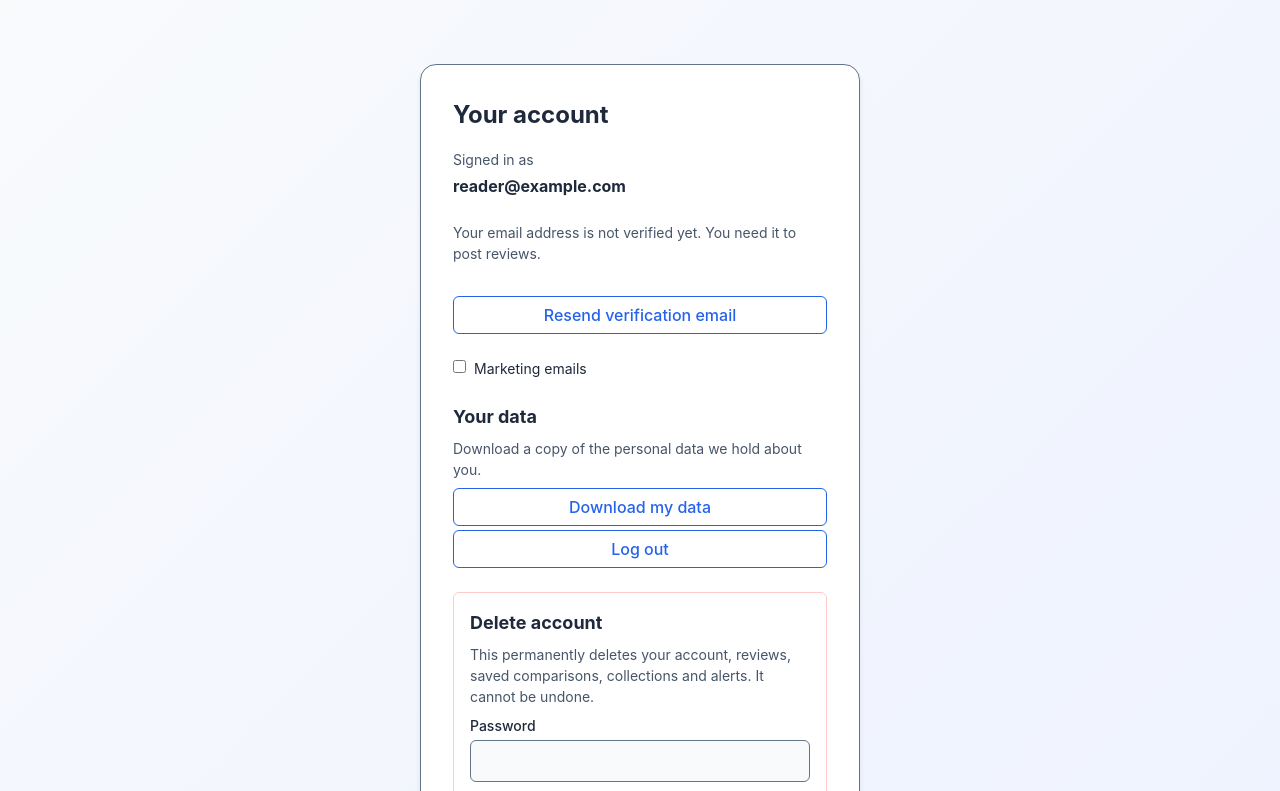
Scenario: AccountPage › offers to resend verification when the email is not verified
Click the button "Resend verification email". click: (640,315)
box: [453,296,827,334]
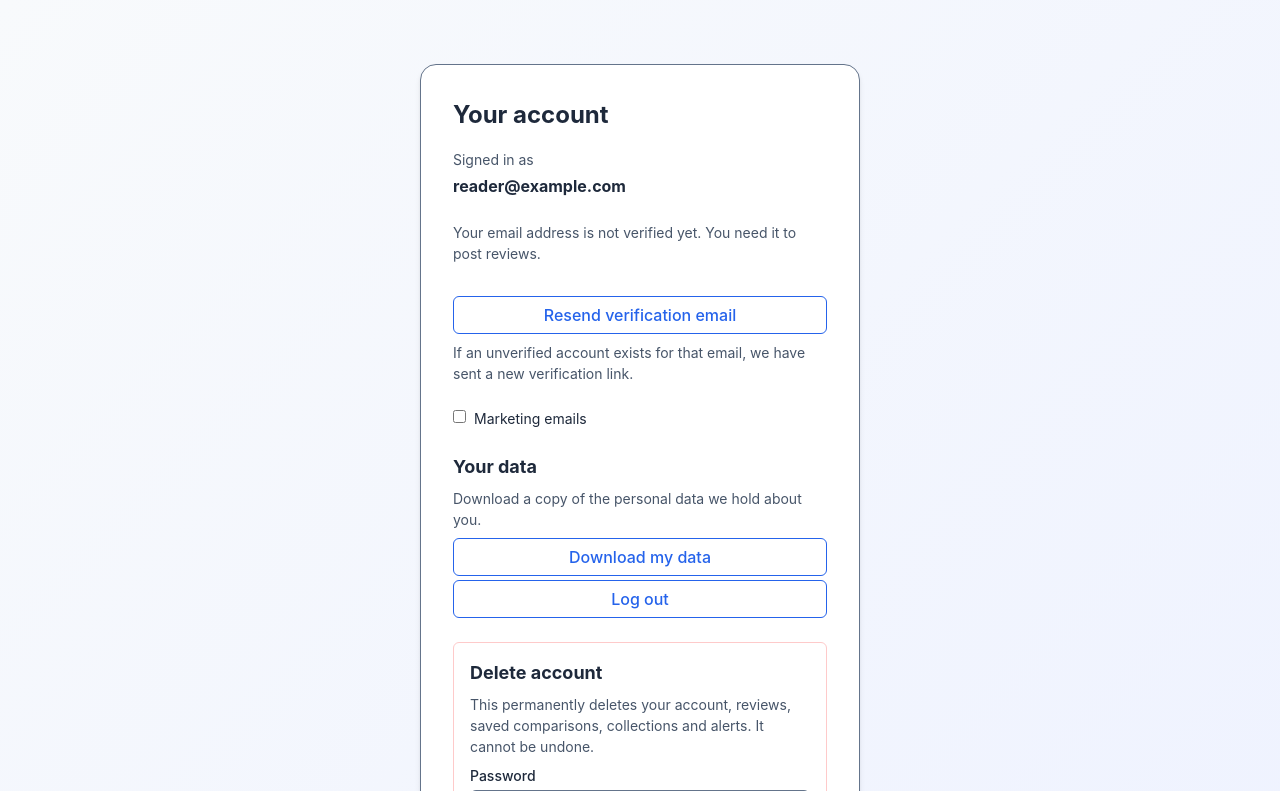
Now the text "we have sent a new verification link" is shown, box [453,344,805,382]
